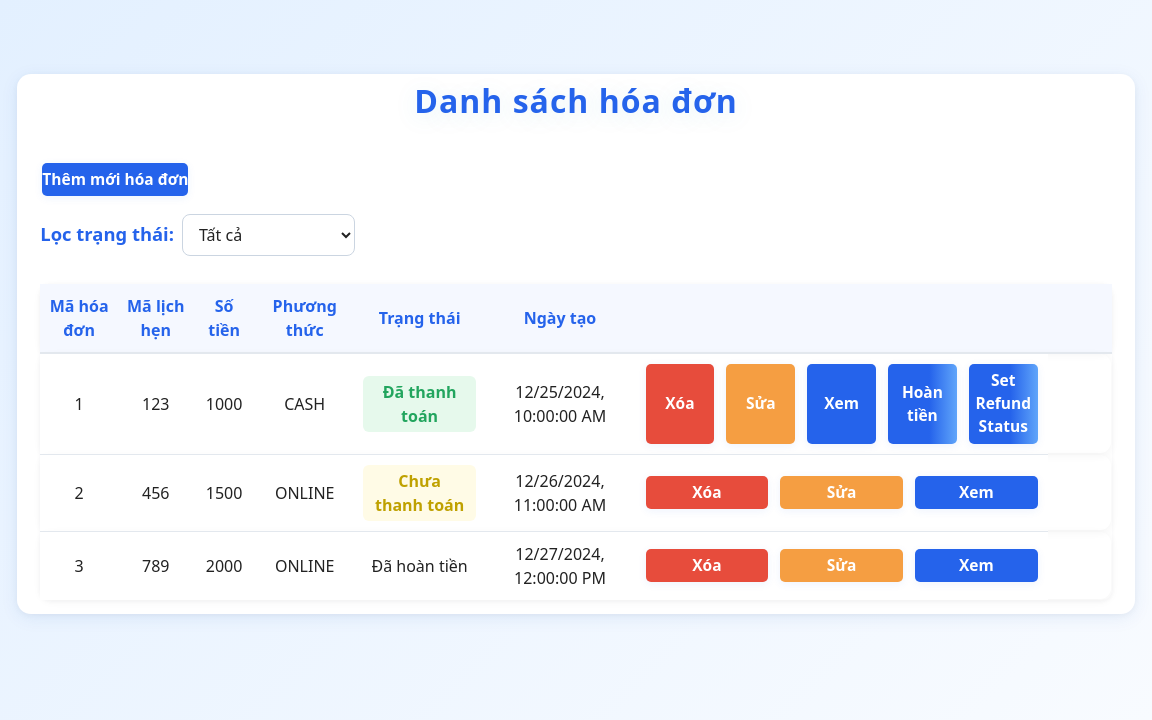
Test: InvoiceList › handles edit invoice
expect the text "1" is shown: met, box left=40, top=353, right=118, bottom=454
Click the button "Sửa" in the row of "123".
click(761, 404)  # box left=726, top=364, right=795, bottom=444
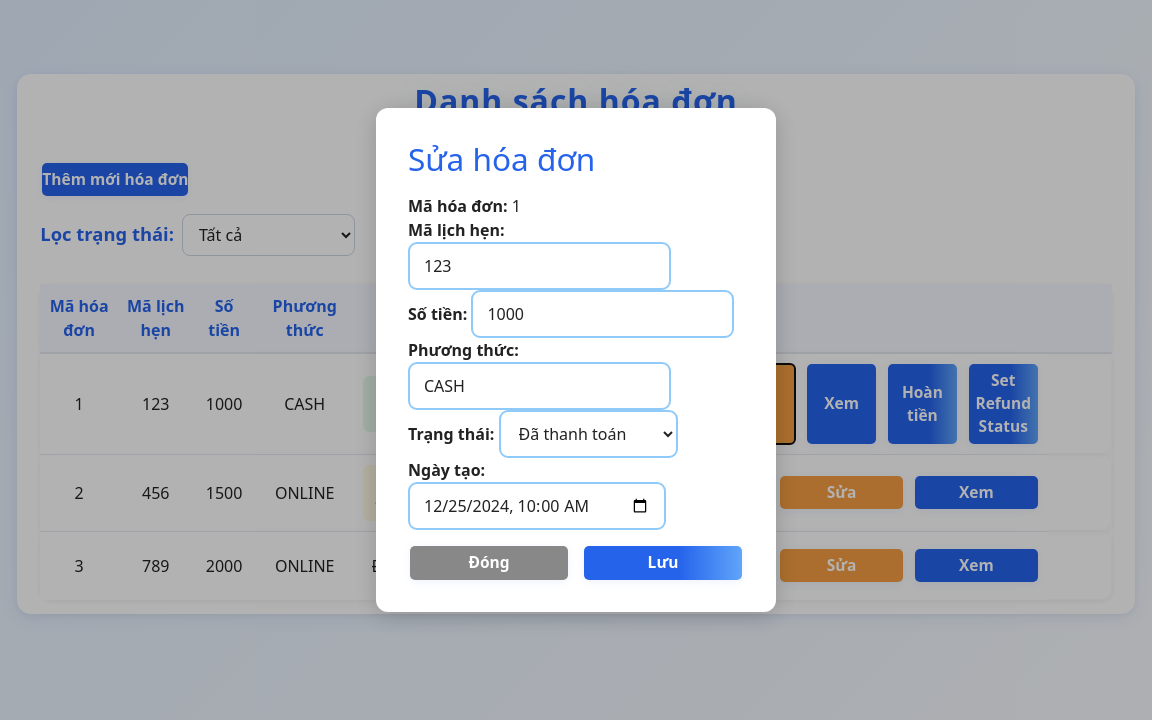
expect the heading "Sửa hóa đơn" is shown: met, box left=408, top=137, right=595, bottom=180
expect the button "Lưu" is shown: met, box left=584, top=546, right=742, bottom=580
